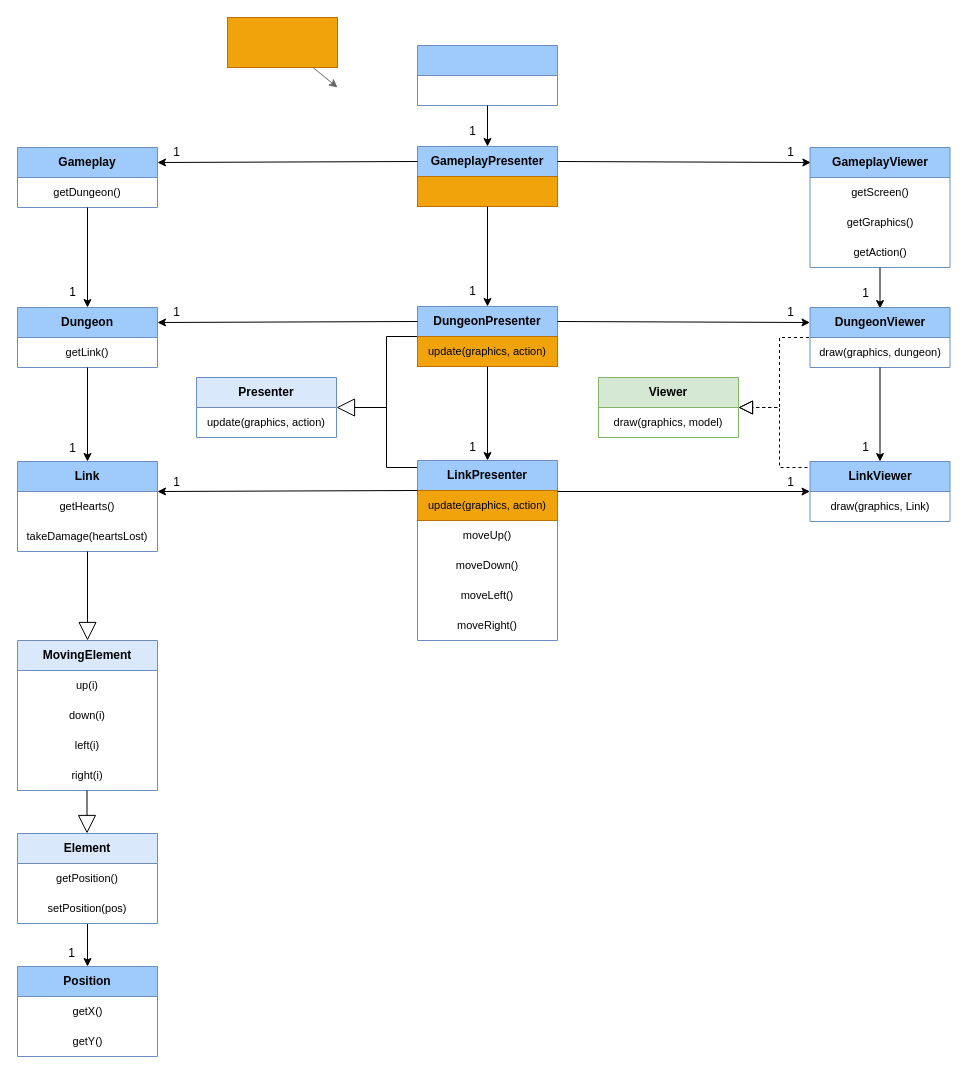
This 968x1074 diagram has some shape labels left out. The shapes that lost their labels are listed below. From the top down, each one's centre as x and y in pixels, then its label:
At (282,42): "Game Loop Pattern".
At (487,75): "Game".
At (487,191): "update()".
